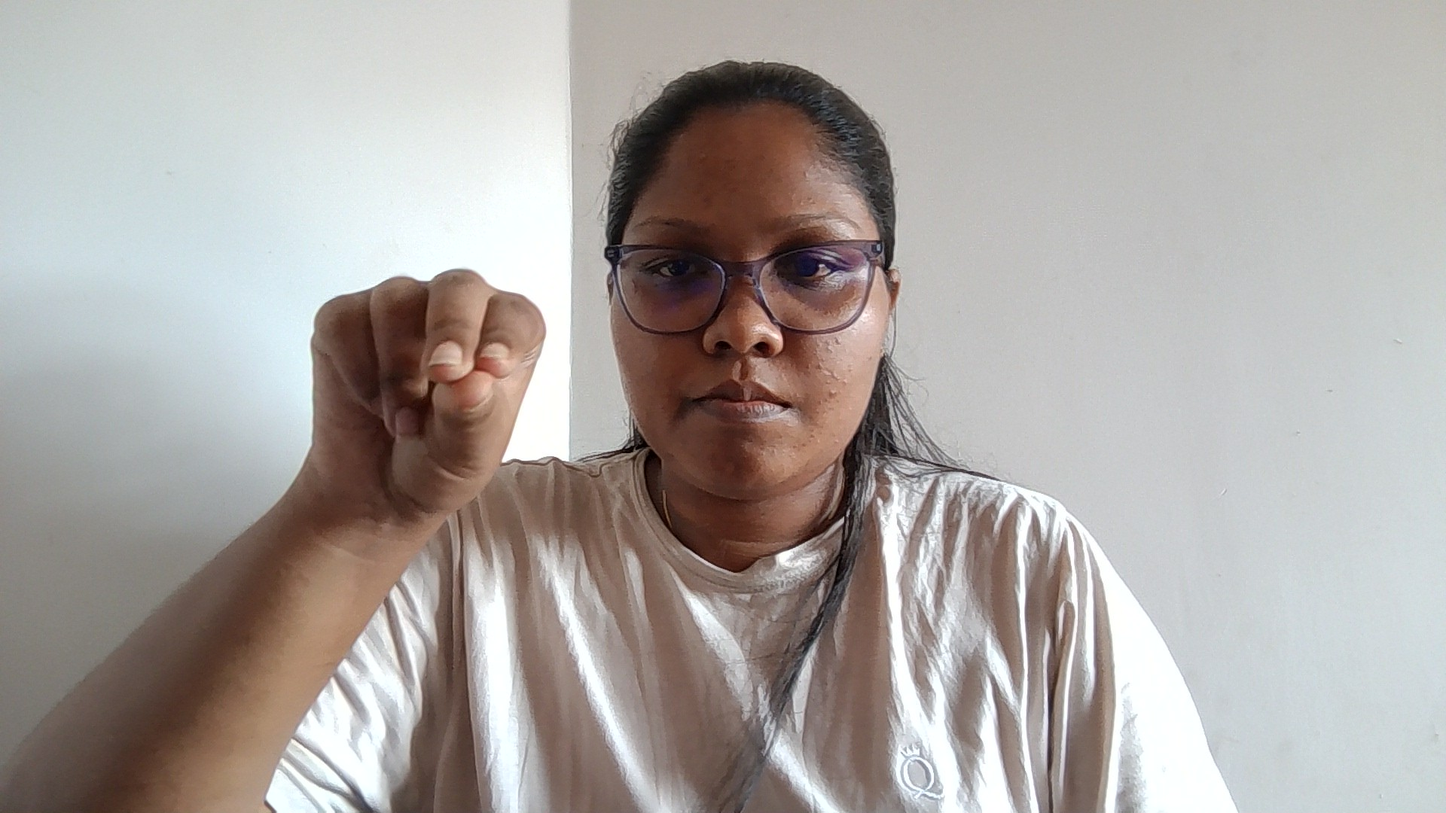No: (273, 210, 562, 604)
